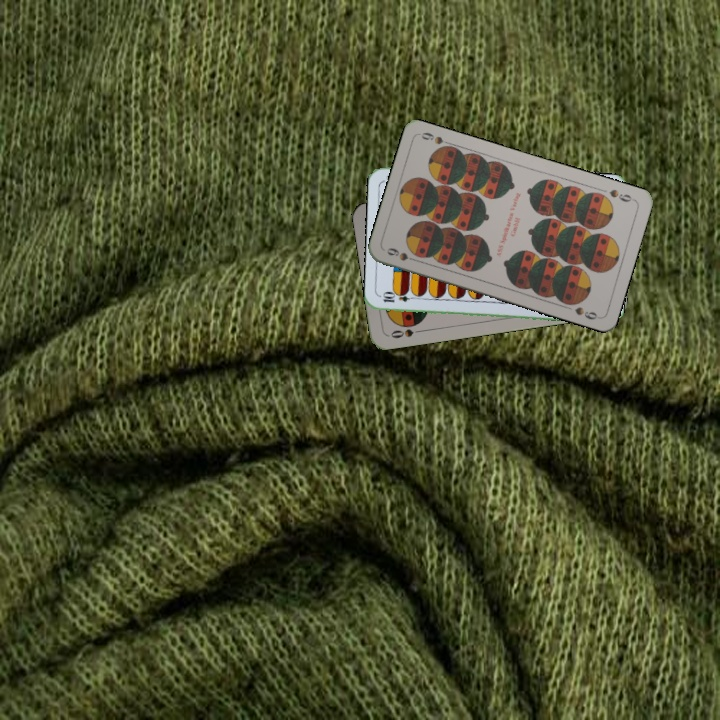E10: (379, 291, 419, 305)
S9: (383, 244, 422, 265), (605, 185, 637, 205)
SO: (387, 325, 425, 341)
